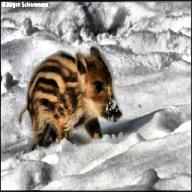boar: (18, 47, 122, 150)
